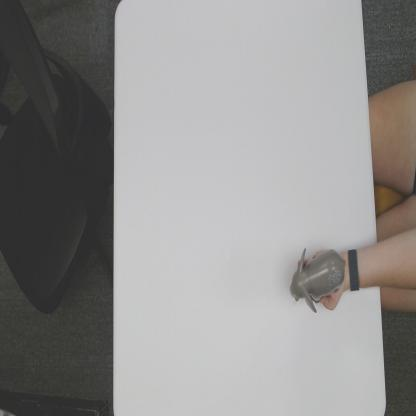Arm: (358, 245, 379, 290)
Elephant: (289, 242, 346, 314)
Hand: (298, 246, 347, 312)
